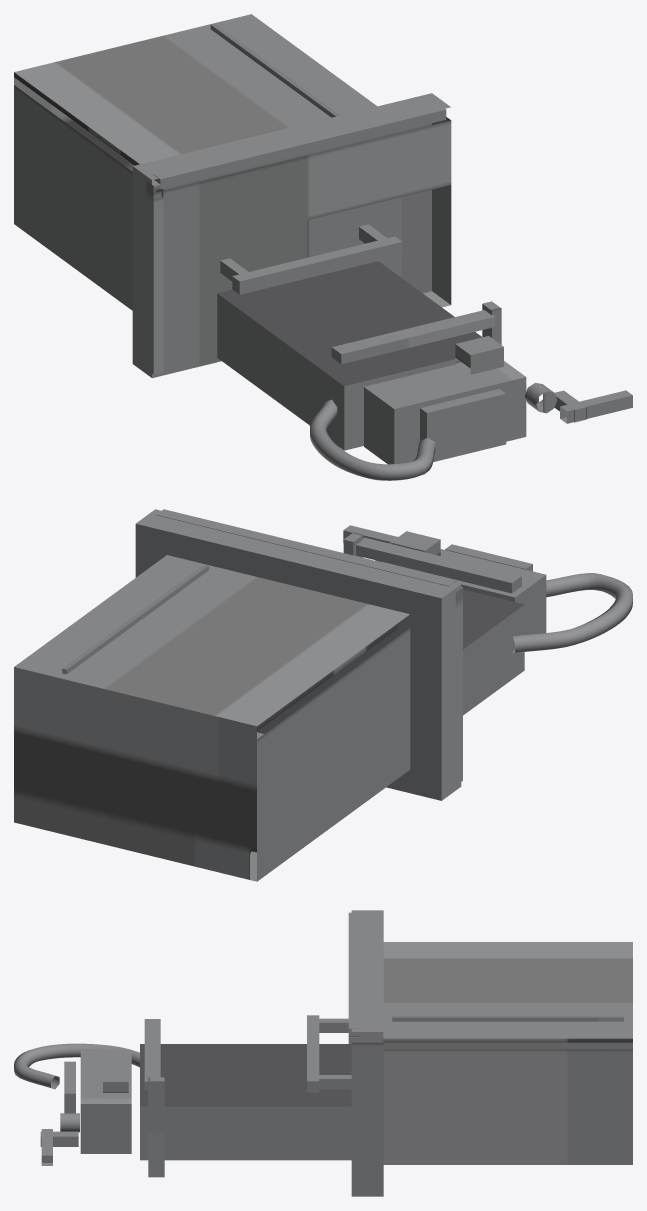
3 renders of one model, top to bottom at view 1: azimuth 30°, elevation 25°; view 2: azimuth 150°, elevation 25°; view 3: azimuth 270°, elevation 25°, orthographic. The views are drawn at different scales.
Bounding box in the file's own units: 0.68 × 0.456 × 1.46.
